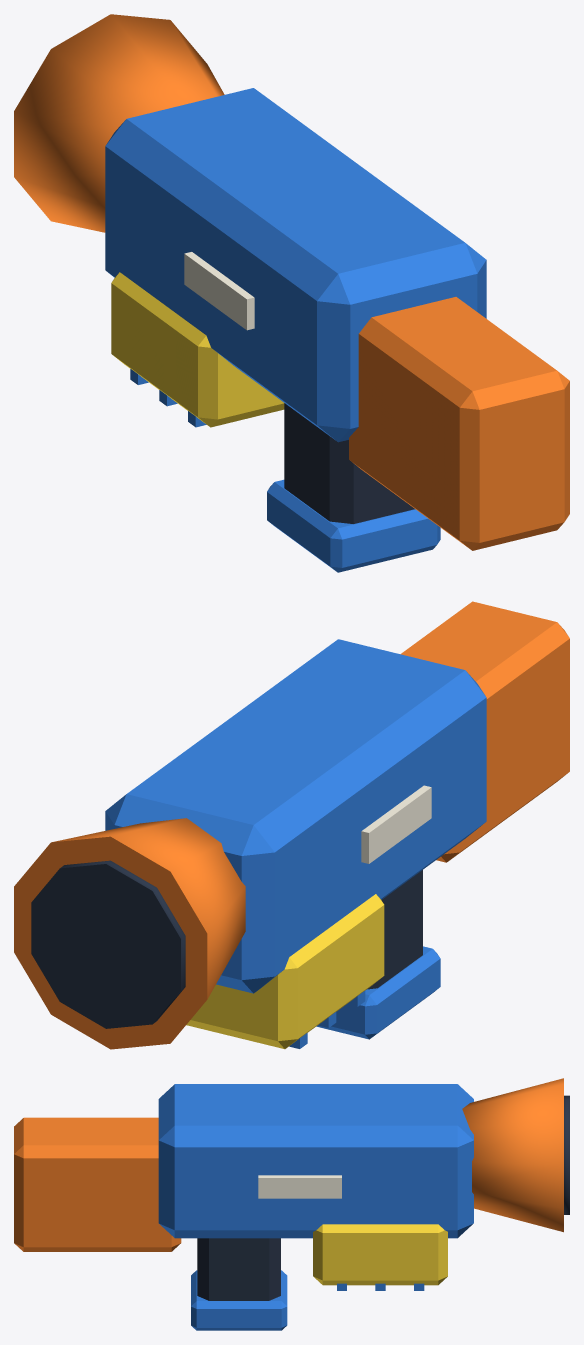
The model's file is fps_w_scatter.glb.
The picture shows the model from 3 angles, top to bottom: view 1: azimuth 30°, elevation 25°; view 2: azimuth 150°, elevation 25°; view 3: azimuth 270°, elevation 25°; orthographic projection. The views are drawn at different scales.
Parts seen in each view (by area): view 1: detail_Blueberry, detail_Tangerine, Pump, grip, detail_Vanilla plastic; view 2: detail_Blueberry, detail_Tangerine, muzzle_tip, Pump, grip, detail_Vanilla plastic; view 3: detail_Blueberry, detail_Tangerine, Pump, grip, detail_Vanilla plastic, muzzle_tip.
Part boxes in pixels (bbox=[...]): detail_Blueberry: bbox=[105, 88, 486, 572]; detail_Tangerine: bbox=[14, 14, 569, 550]; Pump: bbox=[111, 272, 284, 427]; grip: bbox=[284, 403, 414, 523]; detail_Vanilla plastic: bbox=[184, 252, 254, 330]; detail_Blueberry: bbox=[105, 639, 486, 1048]; detail_Tangerine: bbox=[14, 601, 569, 1049]; muzzle_tip: bbox=[31, 860, 185, 1028]; Pump: bbox=[186, 894, 384, 1049]; grip: bbox=[367, 870, 422, 989]; detail_Vanilla plastic: bbox=[361, 785, 431, 863]; detail_Blueberry: bbox=[158, 1084, 473, 1330]; detail_Tangerine: bbox=[14, 1078, 563, 1251]; Pump: bbox=[313, 1224, 447, 1285]; grip: bbox=[197, 1238, 280, 1300]; detail_Vanilla plastic: bbox=[258, 1175, 341, 1198]; muzzle_tip: bbox=[564, 1095, 569, 1214].
Size of the model in its own units: 0.2283 by 0.39 by 0.85.
